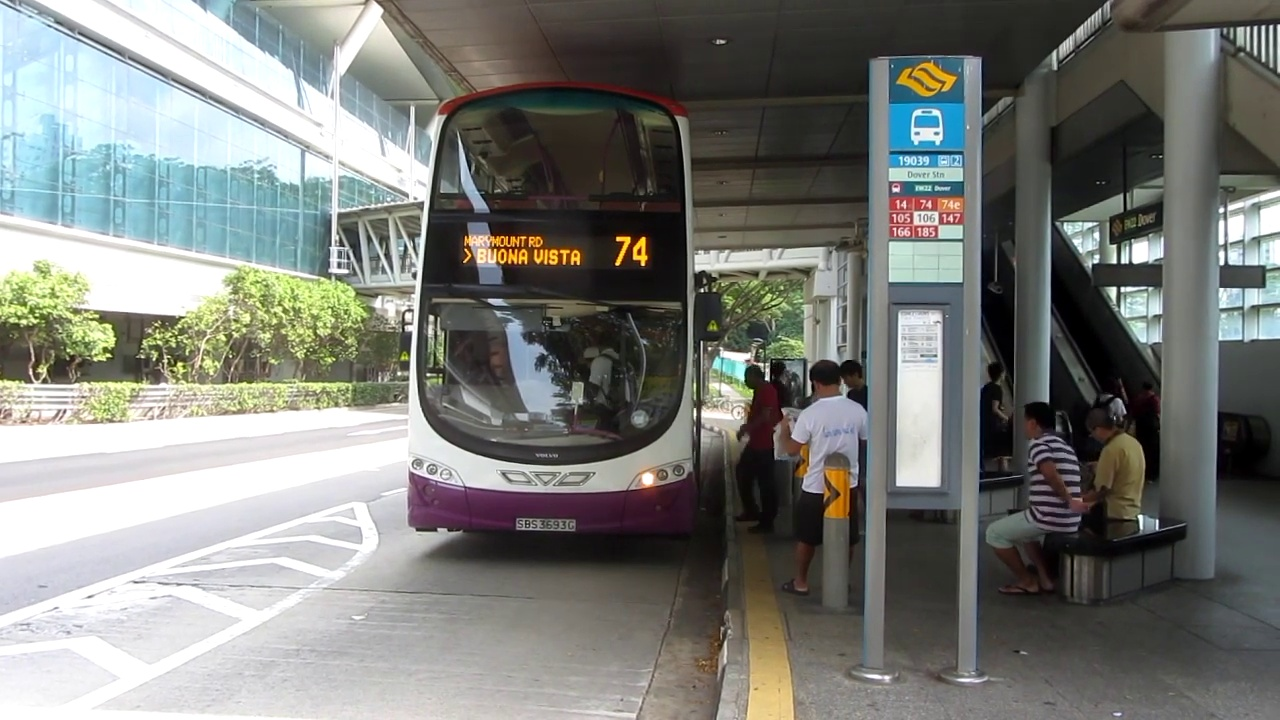bus panel: (456, 229, 655, 275)
